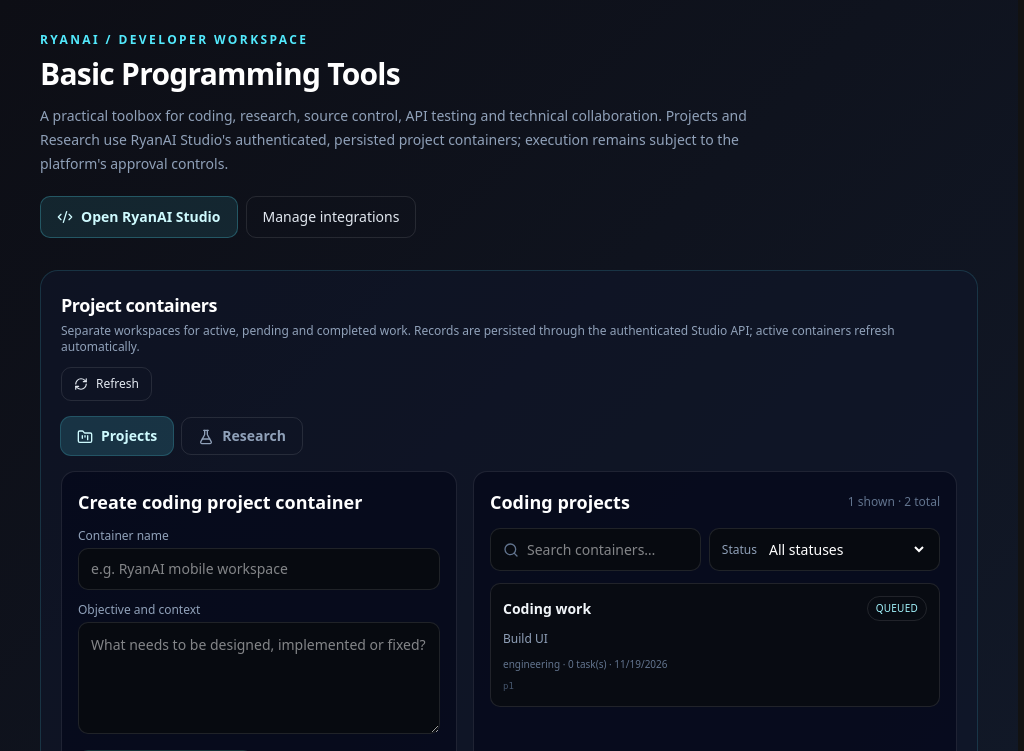
Basic Programming Tools project containers › switches to the independent Research container and shows research records only
Click the tab "Research" at (242, 436), box 181,417 -> 303,455
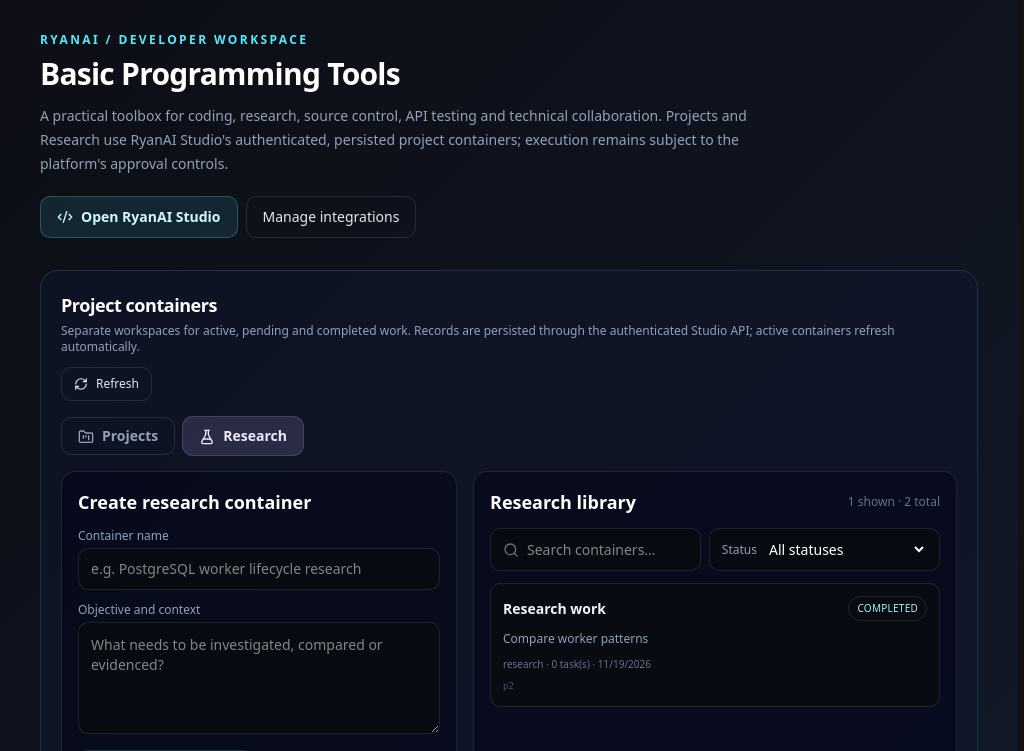
Expected: the text "Research work" is shown, 503,598 -> 606,618
Expected: the text "Coding work" is gone
